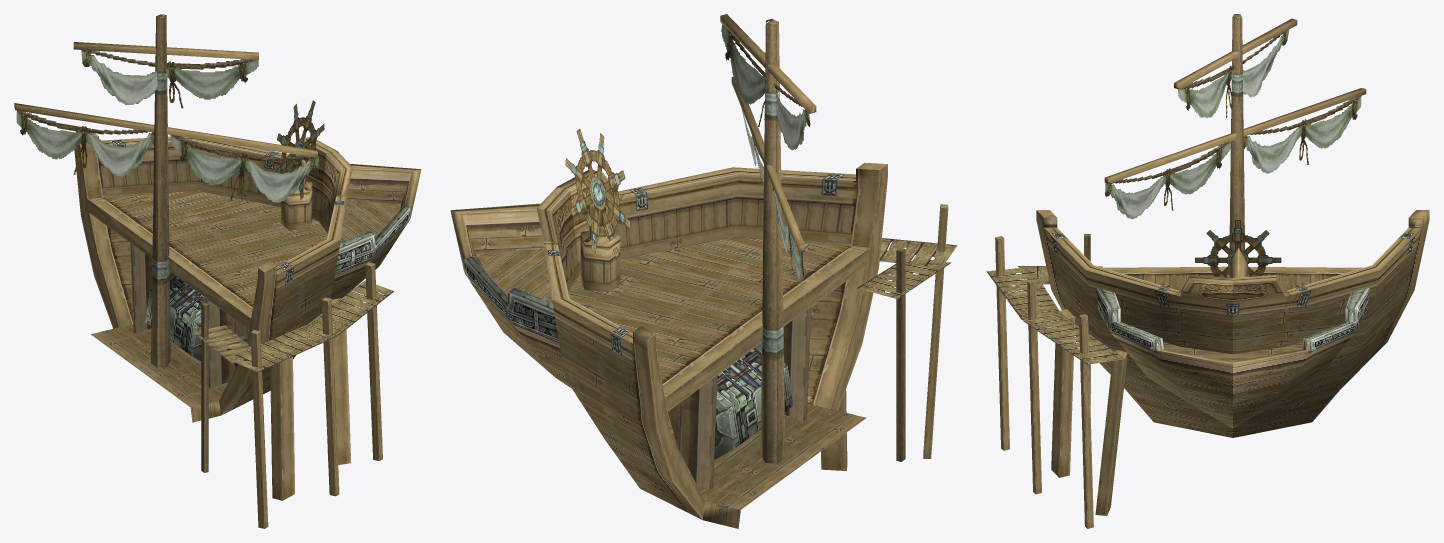
File: nml-bd051.glb
3 renders of one model, left to right at view 1: azimuth 30°, elevation 25°; view 2: azimuth 150°, elevation 25°; view 3: azimuth 270°, elevation 25°, orthographic. The views are drawn at different scales.
Visible parts, largest first — view 1: geom_node_0, geom_node_1, geom_node_2, geom_node_5, geom_node_4, geom_node_3; view 2: geom_node_1, geom_node_0, geom_node_2, geom_node_5, geom_node_4, geom_node_3; view 3: geom_node_0, geom_node_1, geom_node_5, geom_node_2, geom_node_4.
Part boxes in pixels (x1,y1,x2,y2): geom_node_0: [74, 132, 420, 370]; geom_node_1: [141, 151, 421, 422]; geom_node_2: [14, 14, 319, 367]; geom_node_5: [192, 262, 393, 528]; geom_node_4: [275, 100, 324, 230]; geom_node_3: [145, 272, 246, 367]; geom_node_1: [451, 162, 887, 463]; geom_node_0: [450, 187, 802, 528]; geom_node_2: [720, 14, 816, 463]; geom_node_5: [821, 204, 957, 470]; geom_node_4: [565, 129, 630, 292]; geom_node_3: [714, 343, 793, 459]; geom_node_0: [1233, 210, 1429, 437]; geom_node_1: [1036, 210, 1232, 437]; geom_node_5: [986, 234, 1127, 528]; geom_node_2: [1104, 14, 1366, 251]; geom_node_4: [1195, 220, 1281, 277].
Bounding box in the file's own units: 11.62 × 13.67 × 12.53.
9 materials, 9 textured.
